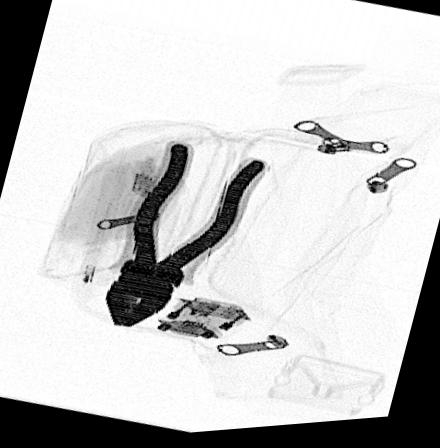Pliers: (102, 143, 272, 329)
